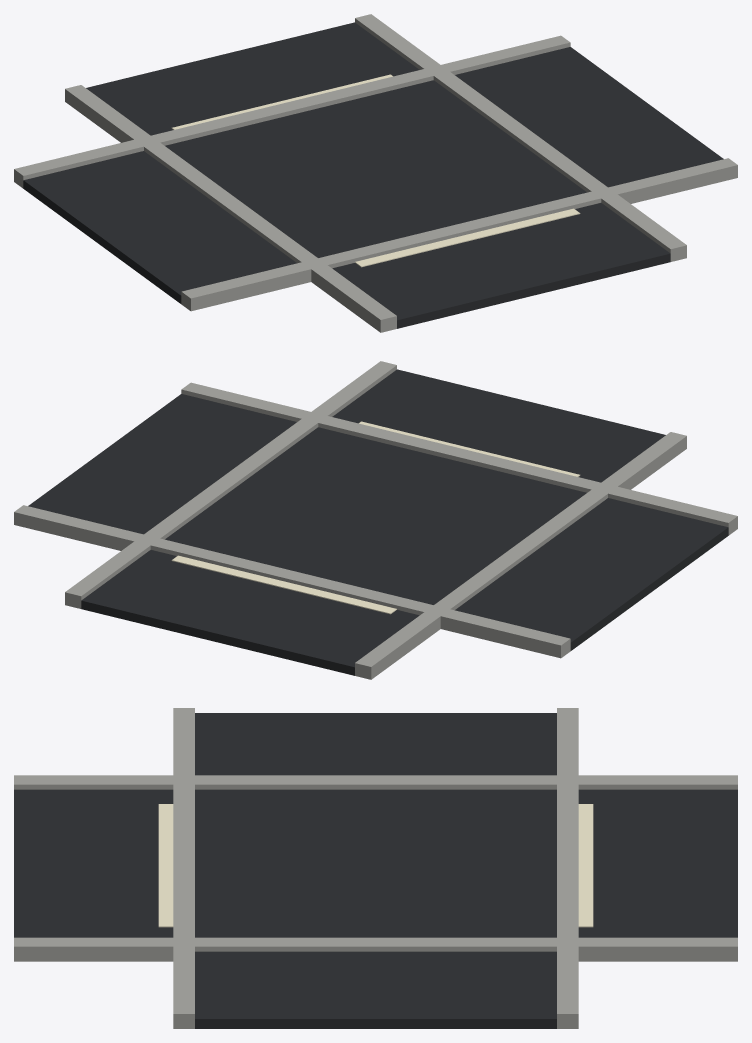
Rendered from road_asphalt_cross.glb.
The picture shows the model from 3 angles, top to bottom: view 1: azimuth 30°, elevation 25°; view 2: azimuth 150°, elevation 25°; view 3: azimuth 270°, elevation 25°; orthographic projection. The views are drawn at different scales.
Visible parts, largest first — view 1: body; view 2: body; view 3: body.
Boxes of the visible parts, x1=… form: body: x1=14, y1=14, x2=737, y2=332; body: x1=14, y1=361, x2=737, y2=679; body: x1=14, y1=708, x2=737, y2=1028.
Size of what is drawn, in the model's own units: 8 by 0.18 by 8.
